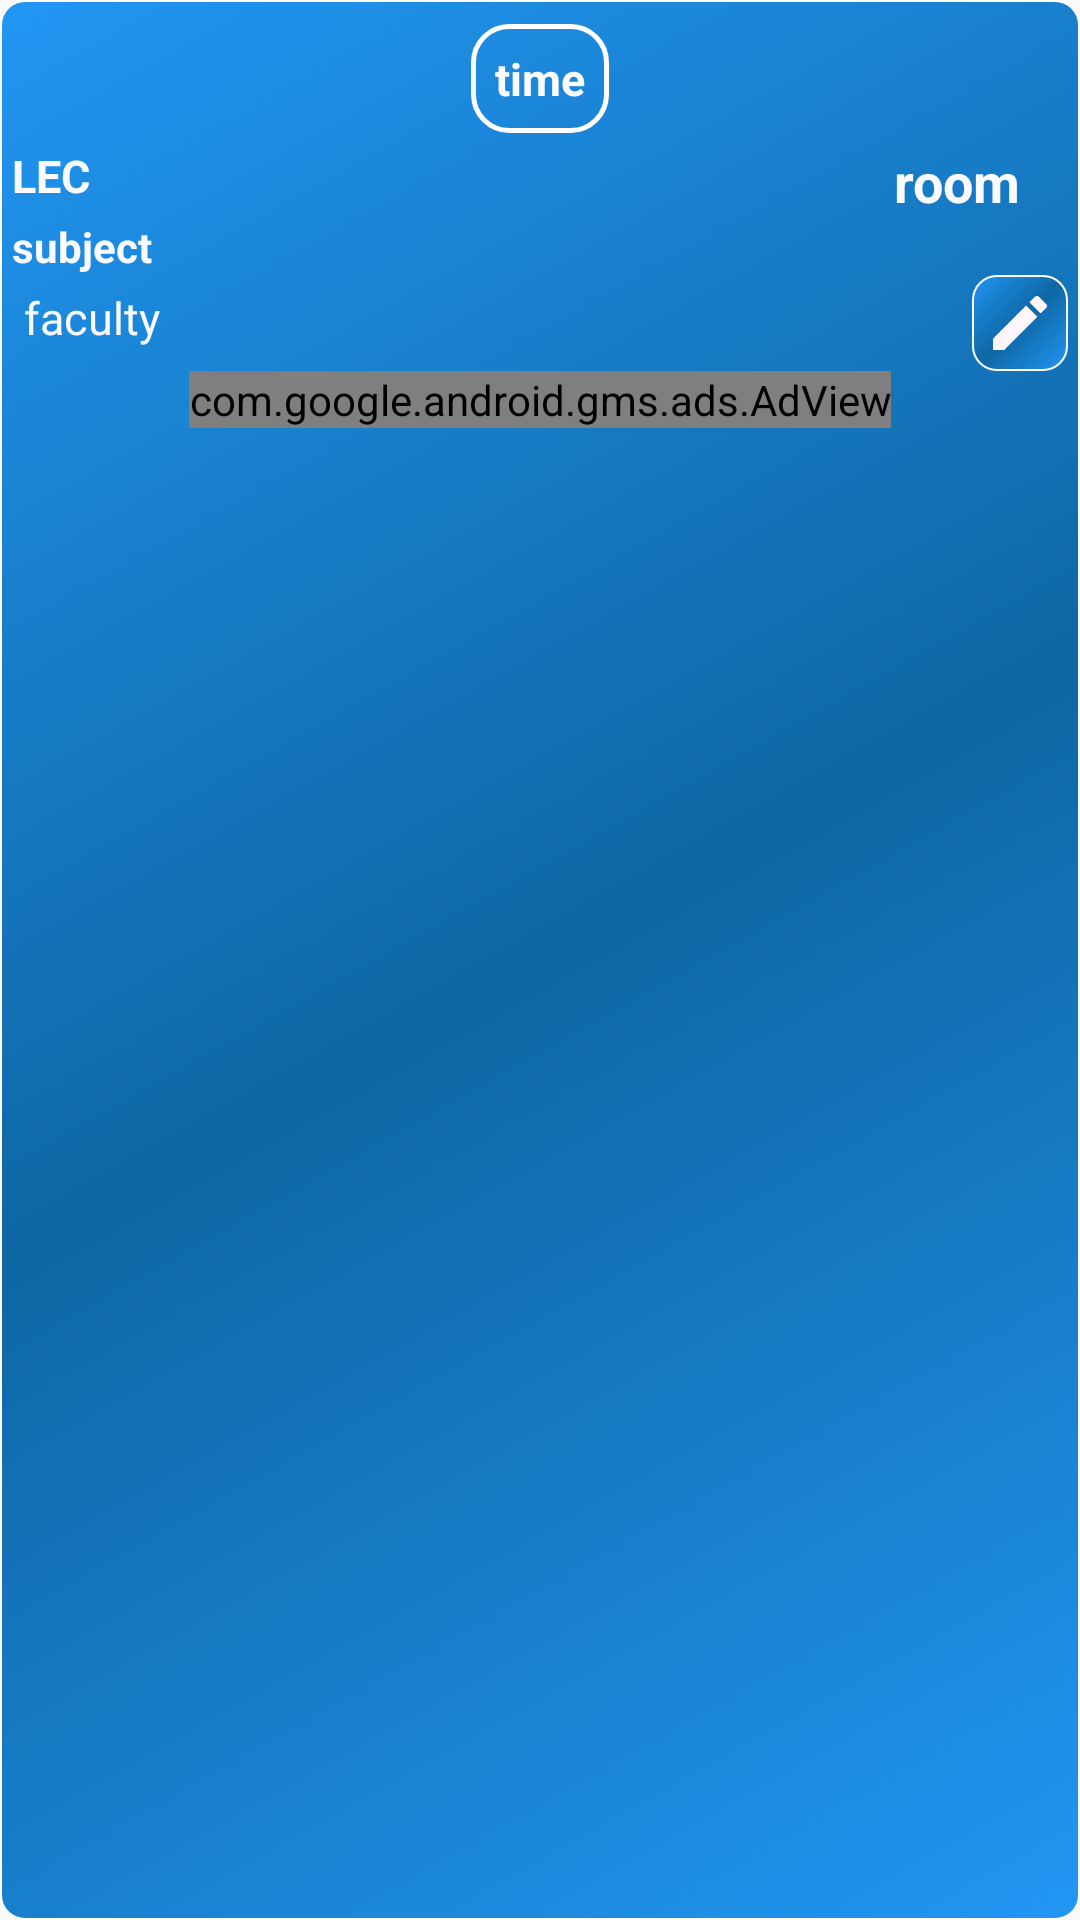

Where icons sit on this 1080x1920 app screen, as [x1=x1, y1=y1, x2=x2, y2=y2]:
Edit Button: [x1=972, y1=275, x2=1068, y2=371]
